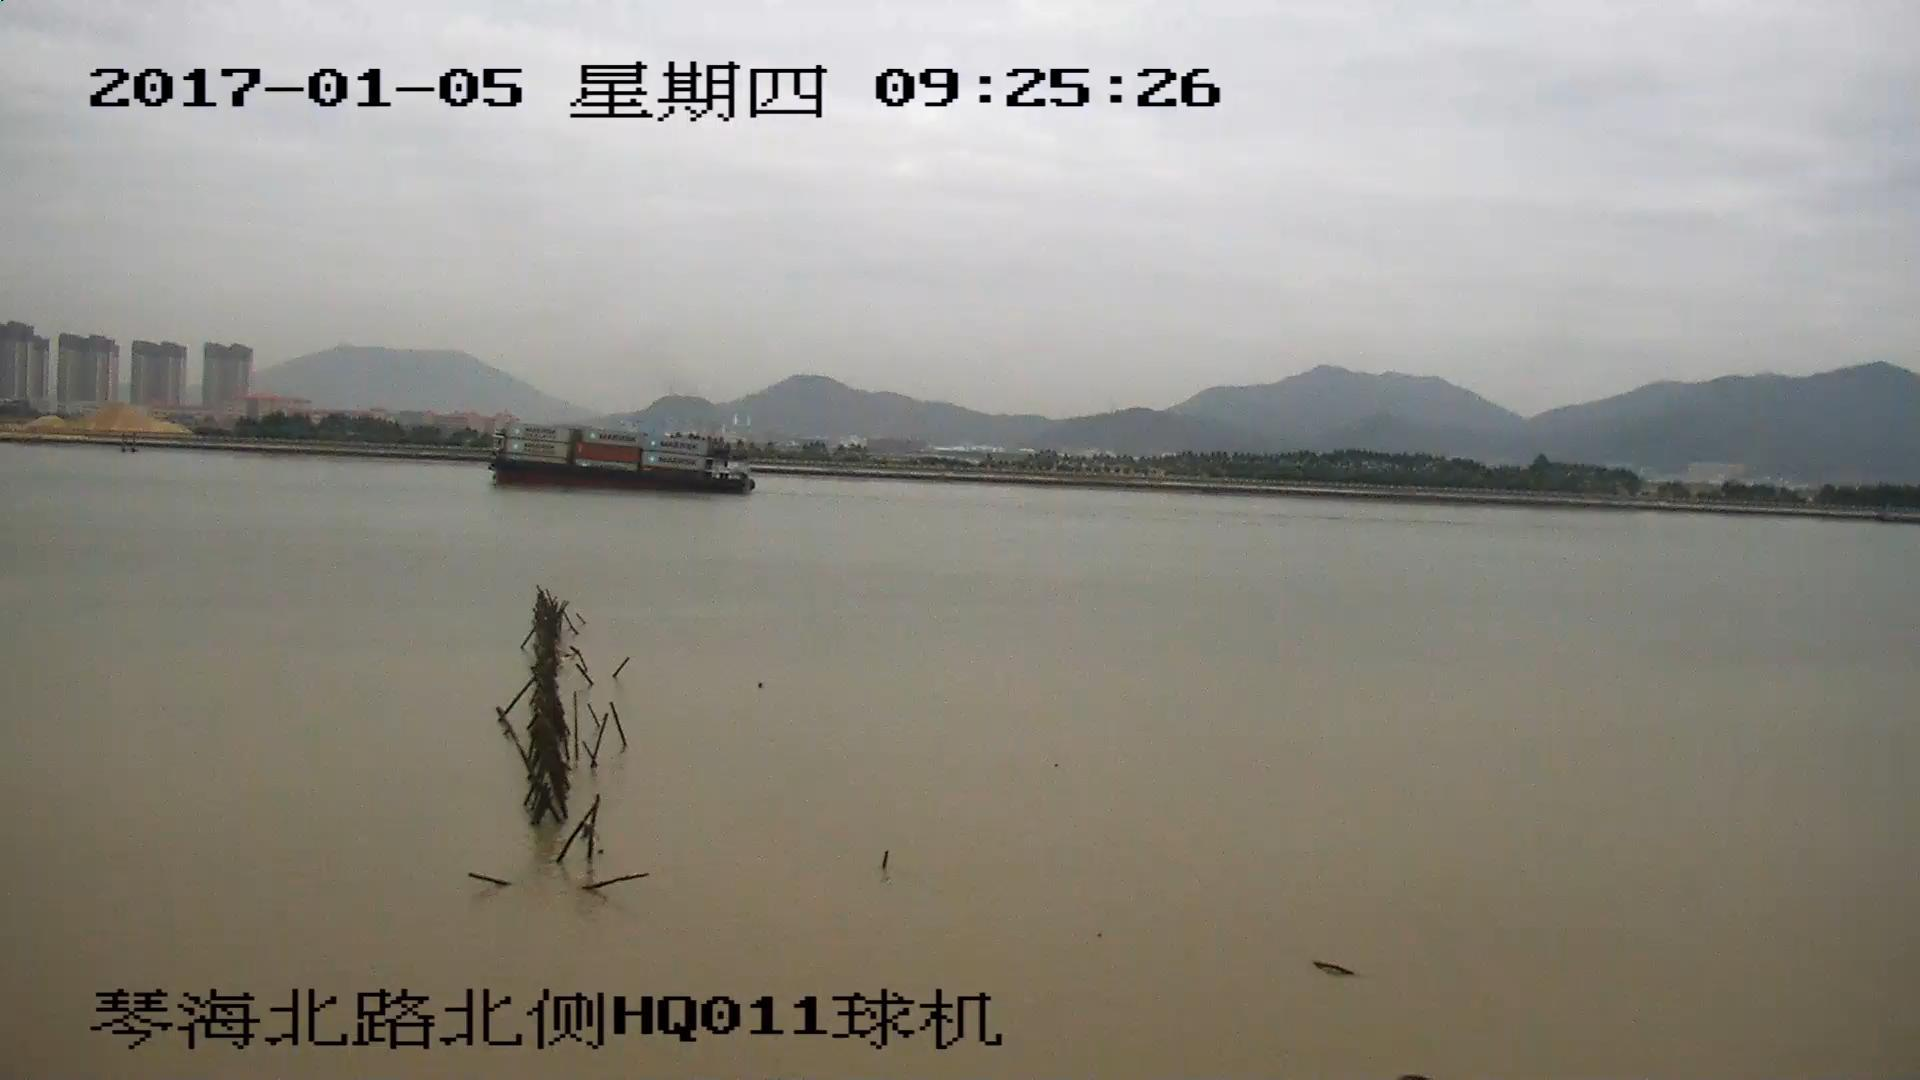Ship: (489, 427, 752, 495)
